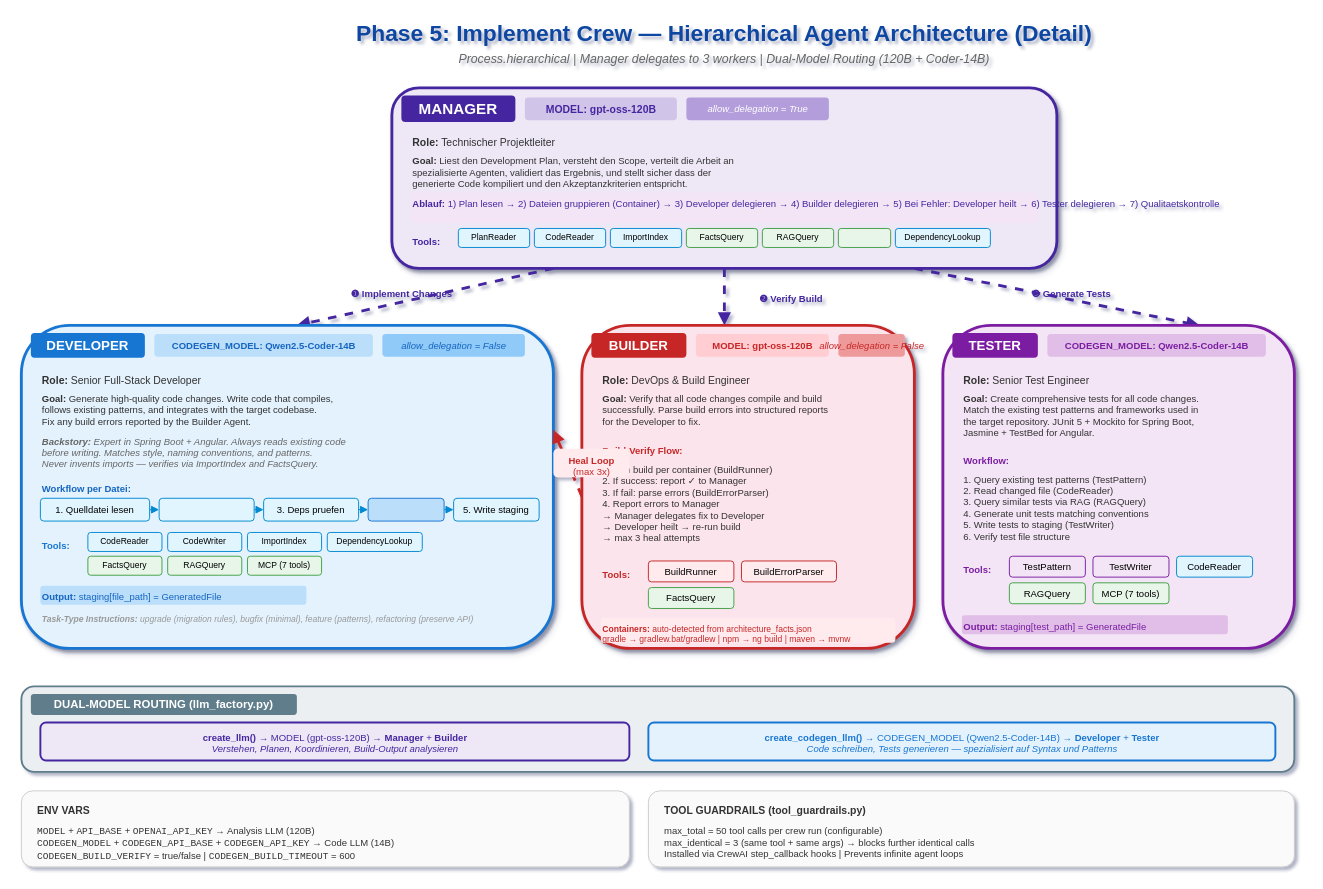
Some shapes in this 1323 by 889 pixel diagram are drawn without their labels. Here are the shapes that lost their labels. From the top down, the centre of each, then its label:
At point (864, 237): "MCP (7)".
At point (206, 509): "2. Imports lookup".
At point (405, 509): "4. Code gen".
